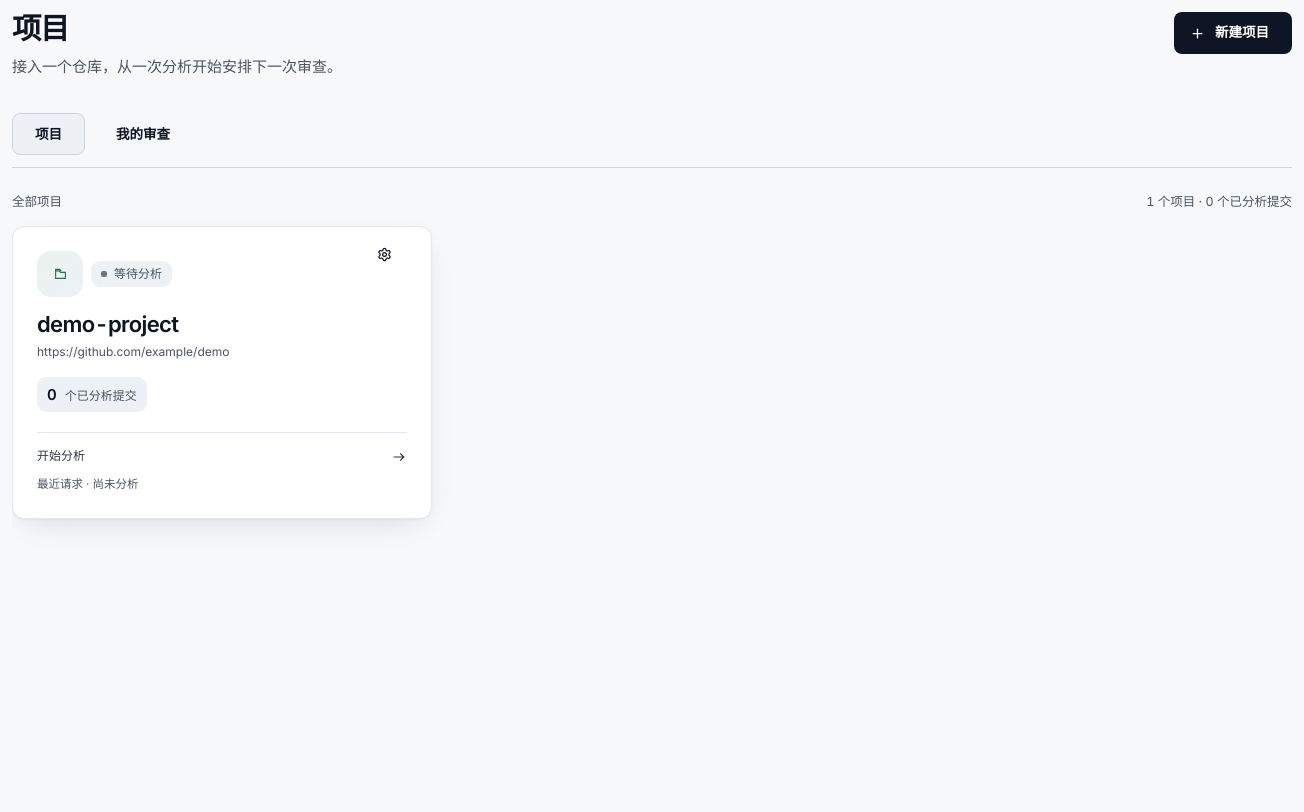
it: renames a project from the management menu without leaving the list
Check: the heading "demo-project" is shown, box [37,311,178,337]
Click the button named "管理项目 demo-project" at (392, 255), box [364,237,421,273]
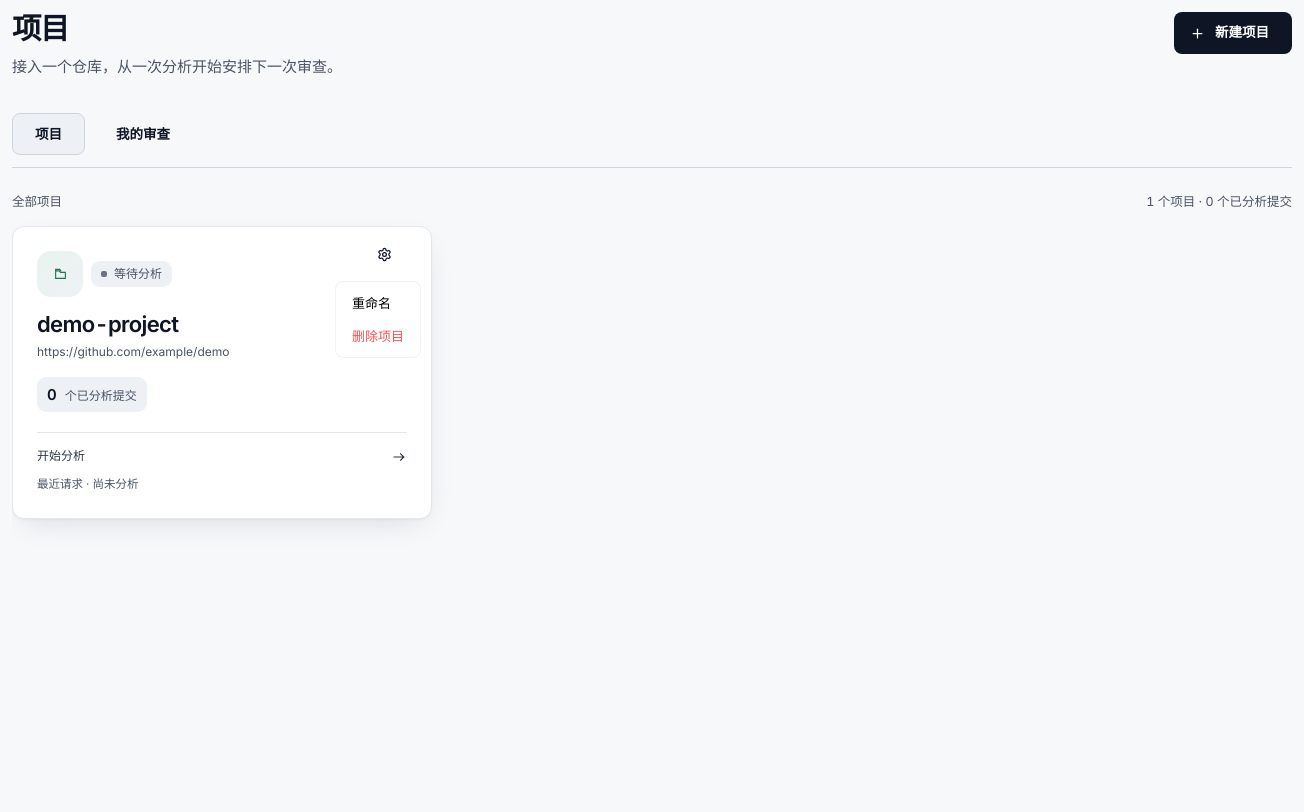
Click the menu item "重命名" at (378, 303), box [340,286,416,319]
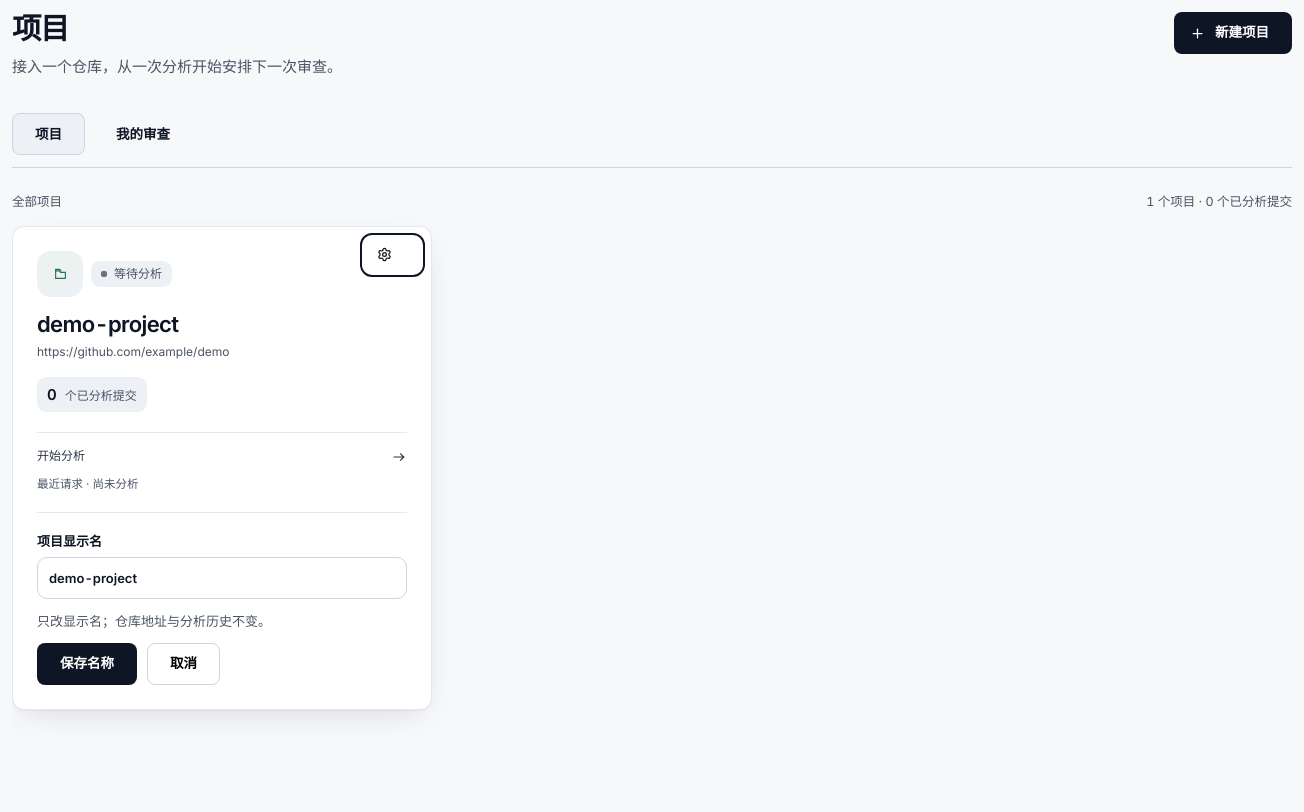
Replace the text in the field labelled "项目显示名" with "审查样例" at (222, 578), box [37,557,407,599]
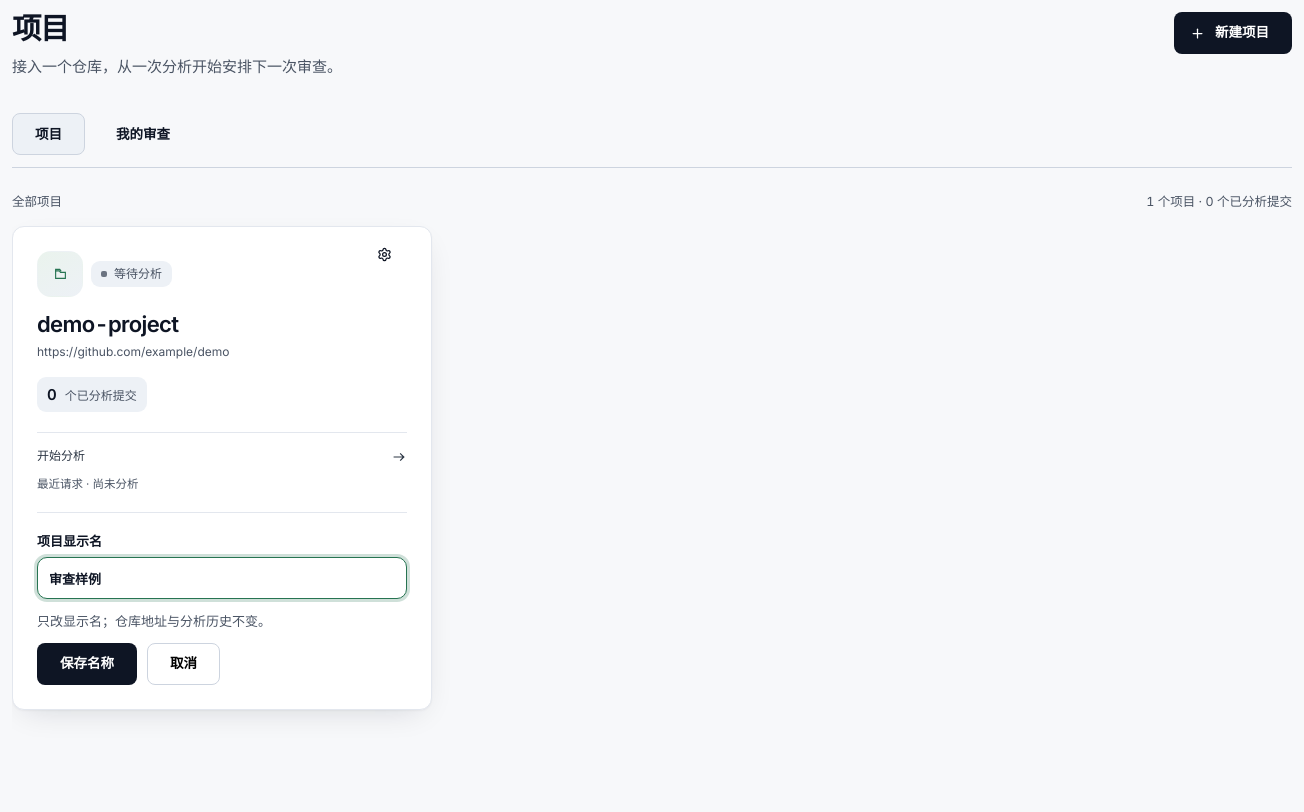
Click the button "保存名称" at (87, 664), box [37,643,137,685]
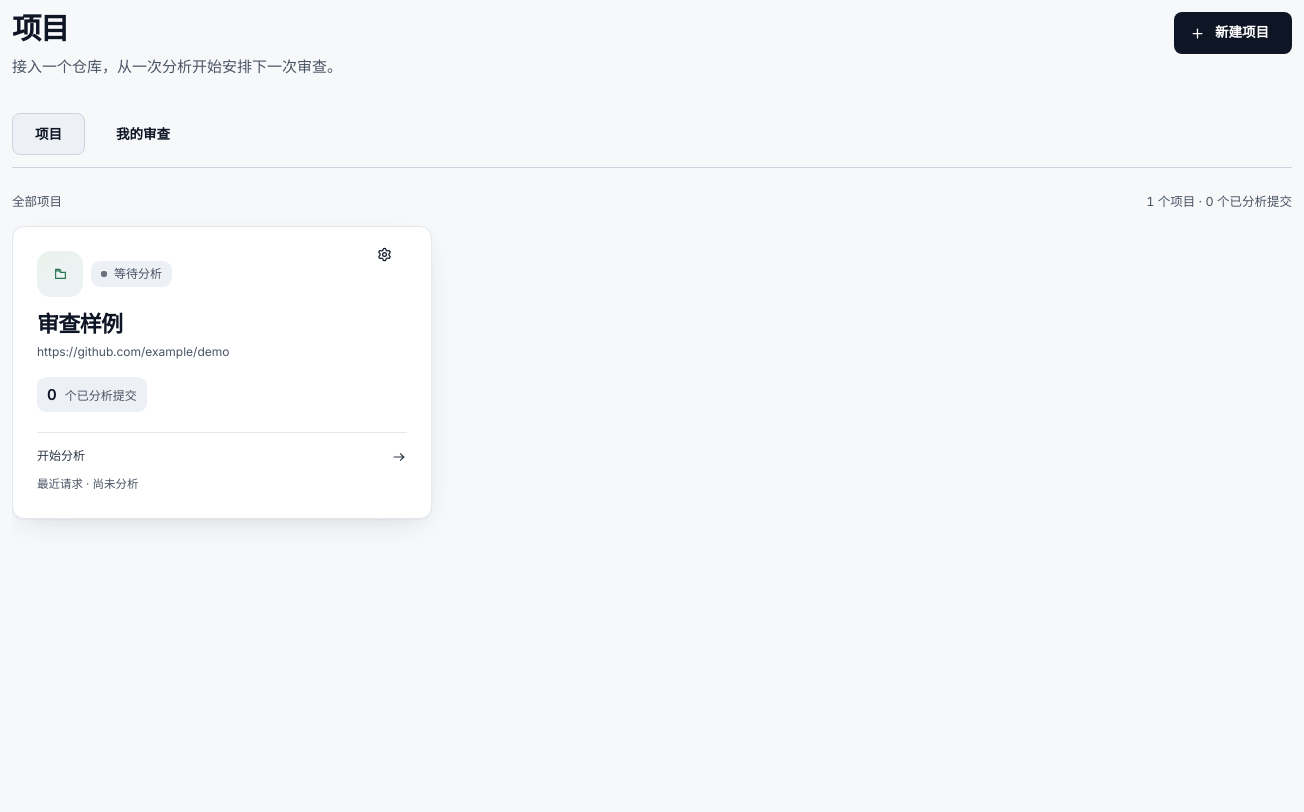
Check: the heading "审查样例" is shown, box [37,311,122,337]
